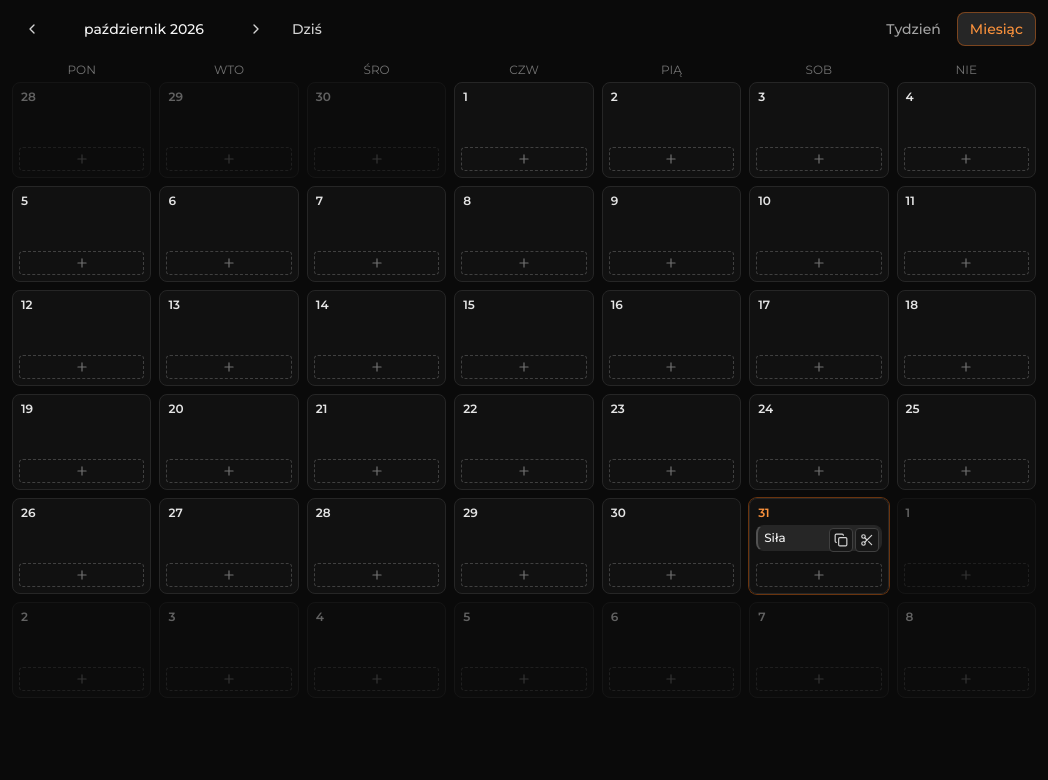
Test: TrainingCalendar › renders one column per day of the week
Click the button "Tydzień" at (914, 29), box x1=874 y1=12 x2=953 y2=46
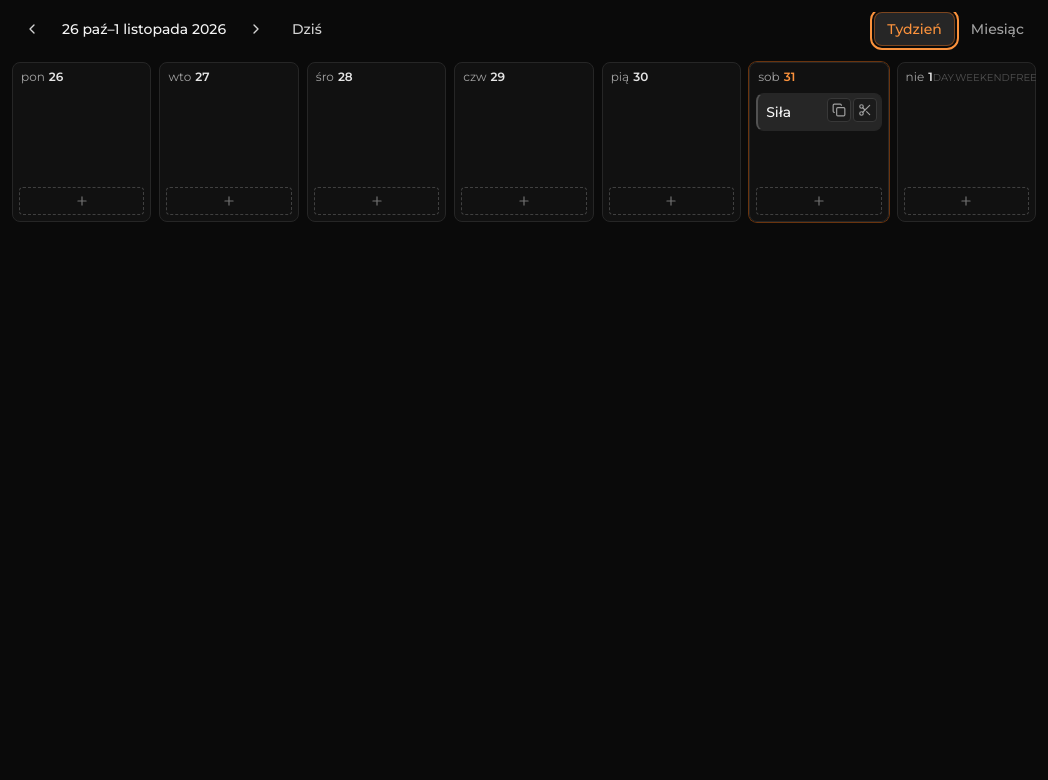
Check: the number of buttons named "Dodaj trening" is 7
